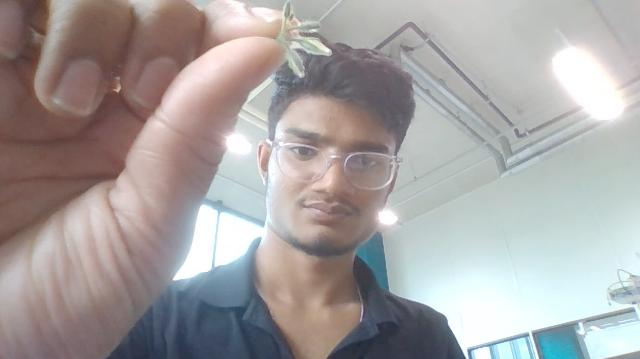Flower Bud: (280, 39, 304, 79), (295, 36, 333, 56)
